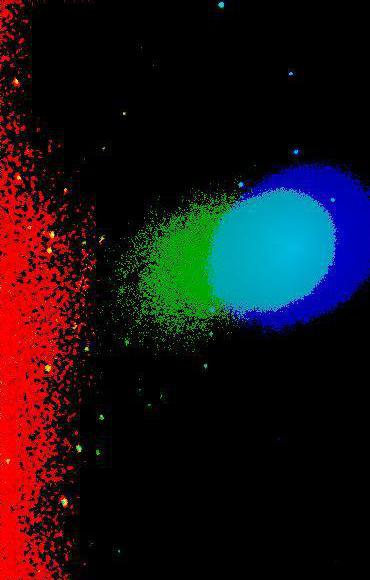star: (148, 382, 178, 412)
